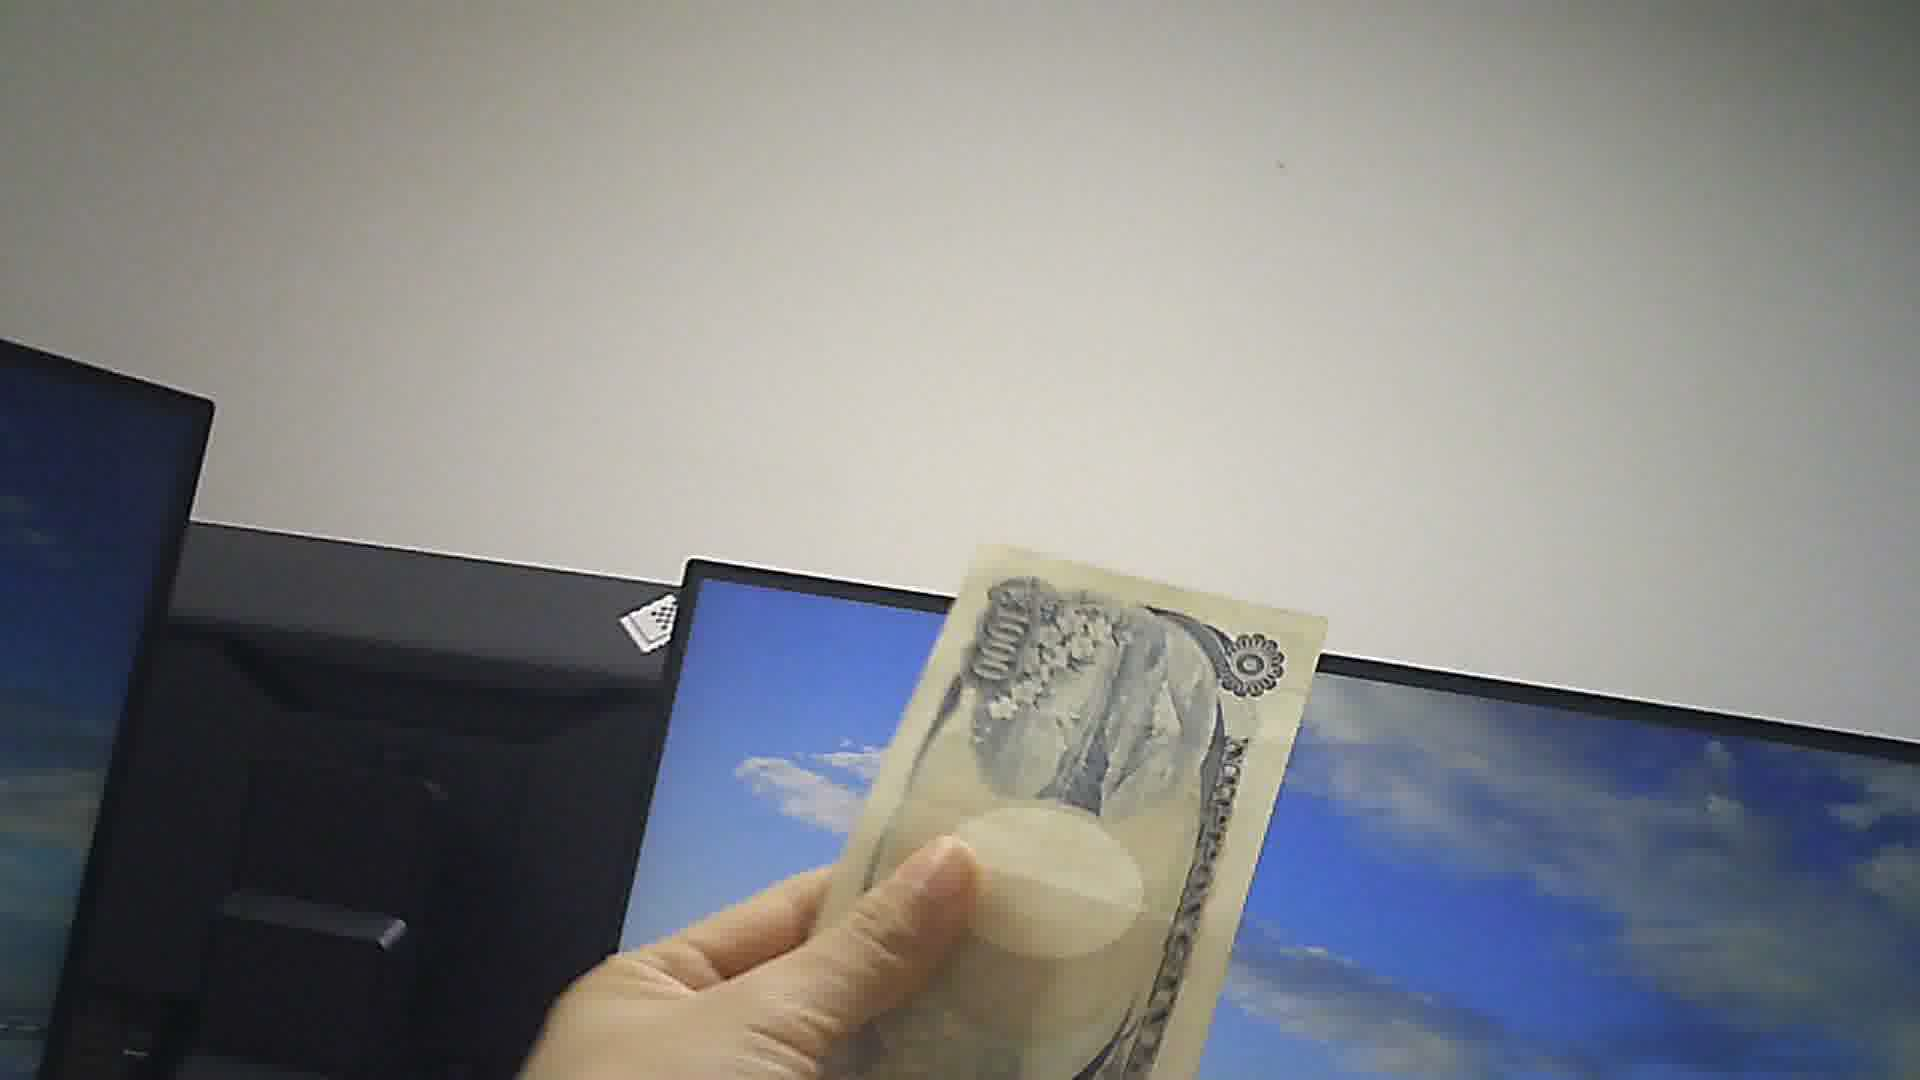1,000 Yen: (828, 524, 1323, 1079)
